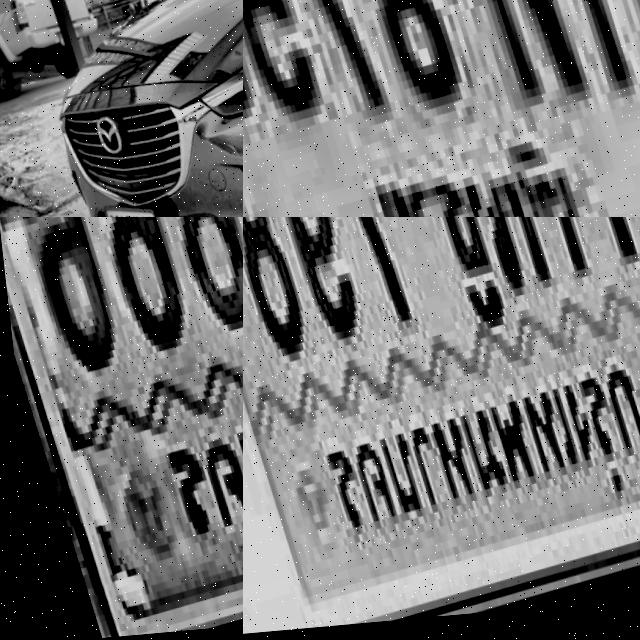license-plate: (243, 217, 640, 640), (0, 217, 243, 640), (243, 0, 640, 217), (84, 190, 173, 217)
